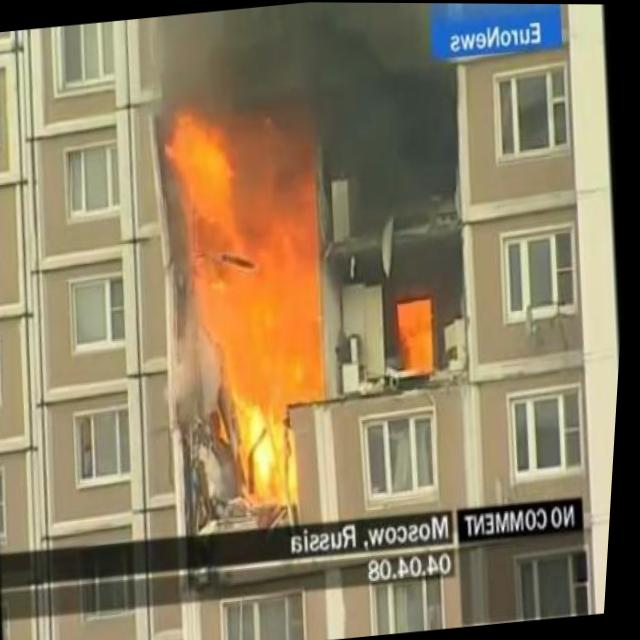fire: (150, 102, 353, 510), (394, 297, 440, 377)
